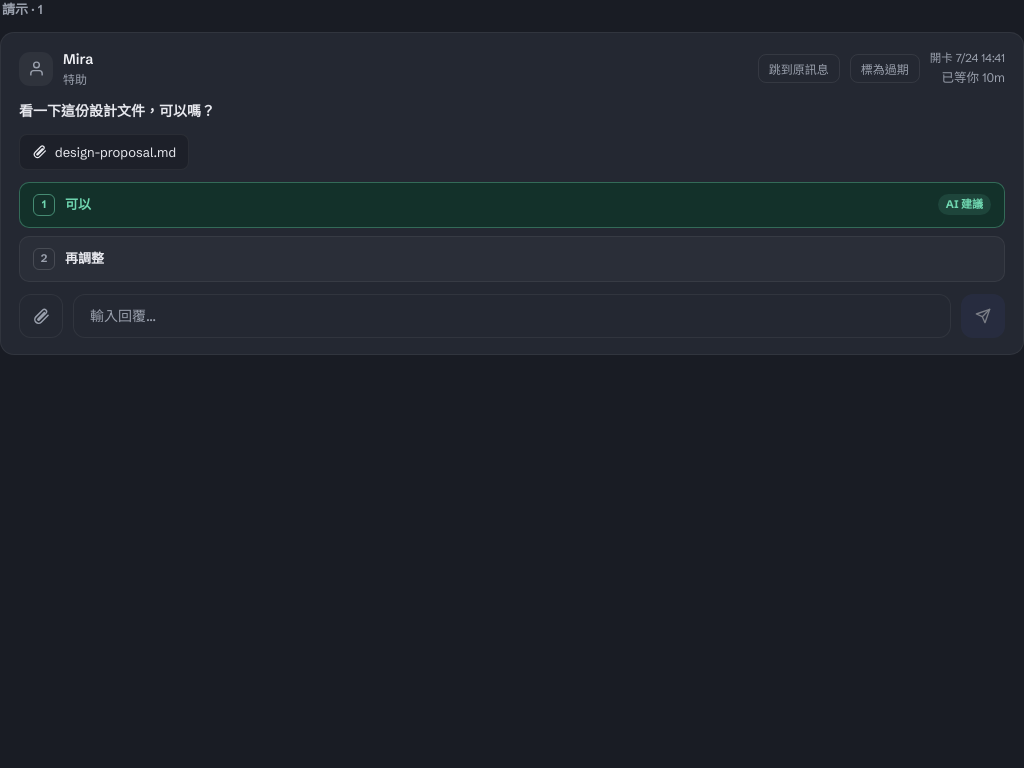
Test: reply-card question attachments: .md preview (T-7bc2) › opens the preview overlay and renders the markdown on click
The width and height of the screenshot is (1024, 768).
Check: the element with test id "waiting-card" is shown, box [0,32,1023,354]
Click the button with class "chat__msg-file".
click(104, 152)  # box [19,134,189,170]
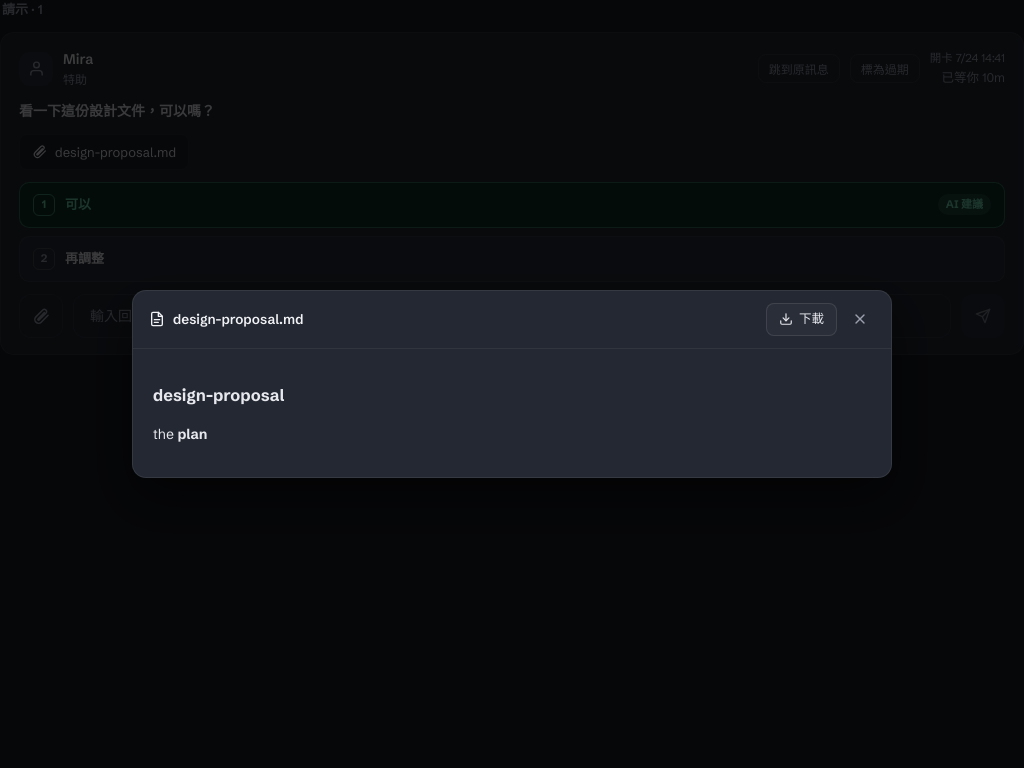
Check: the heading "design-proposal" is shown, box [153,385,284,405]
